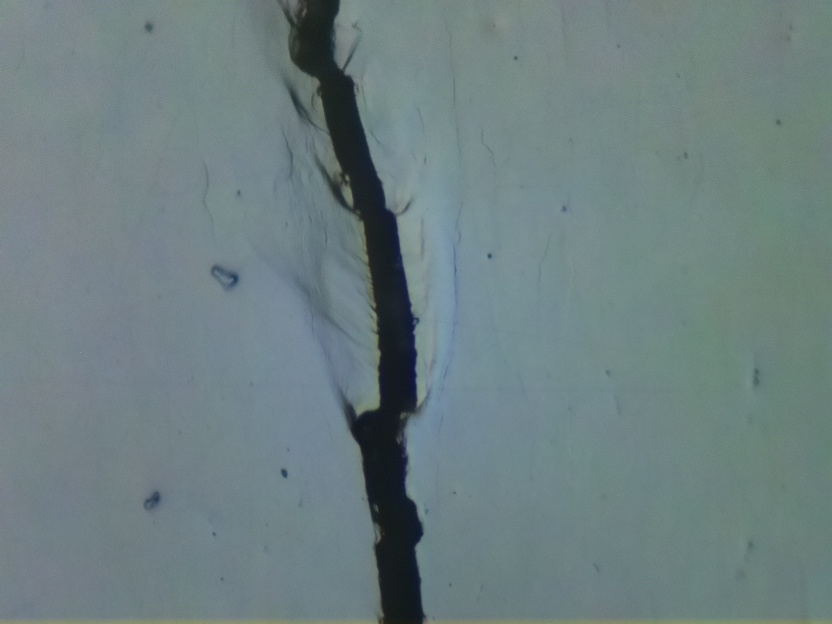crack: (284, 0, 435, 624)
